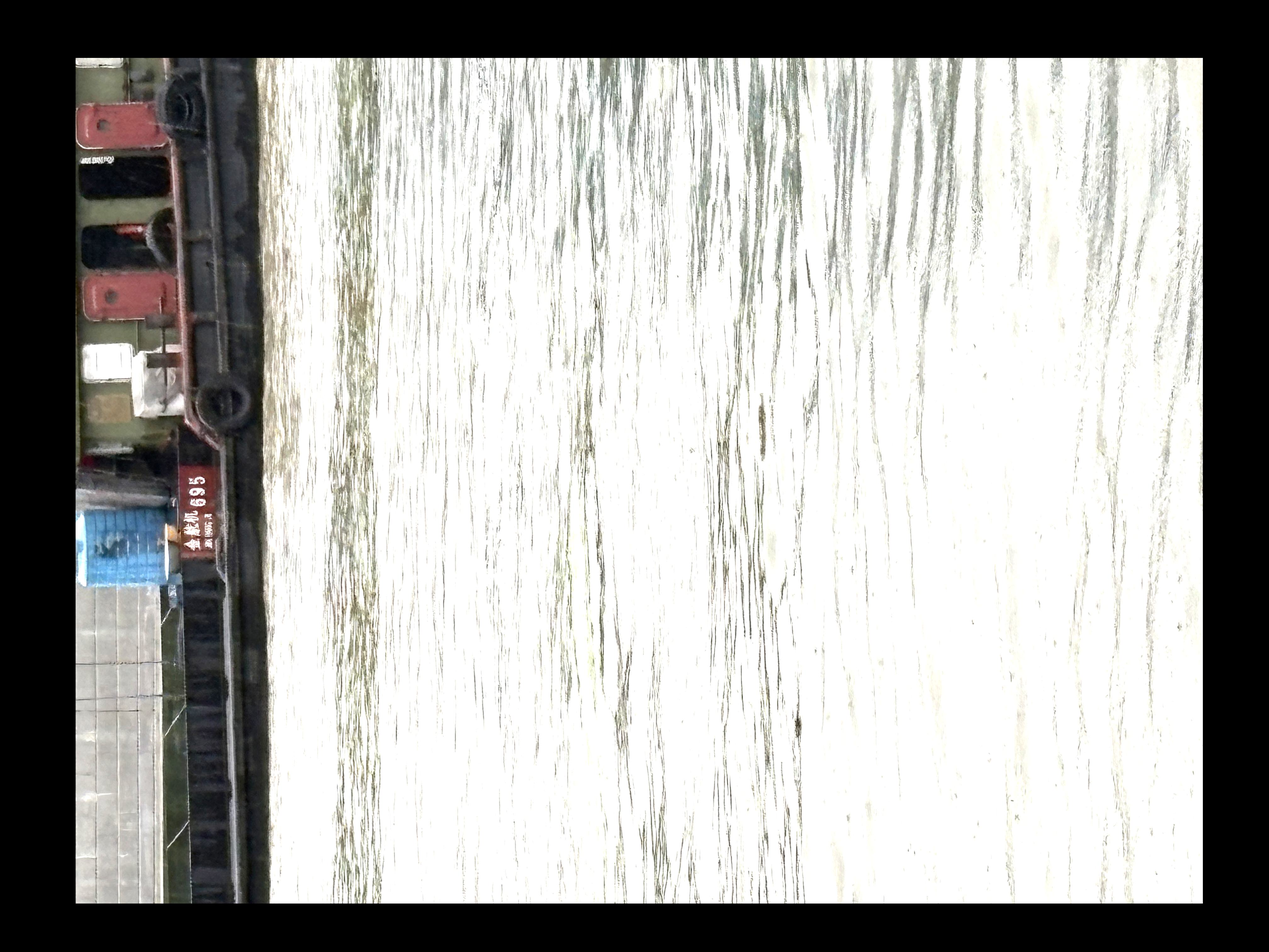Plastic wastes: (770, 383, 795, 448), (809, 703, 833, 714)
